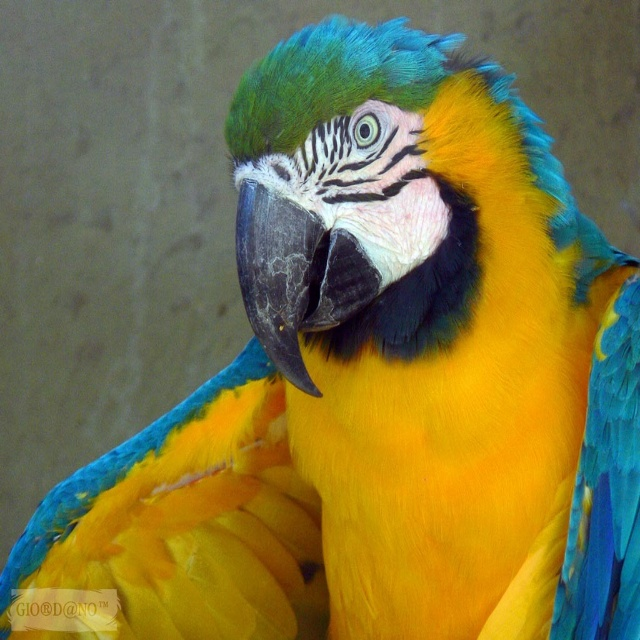Parrot: (0, 9, 639, 639)
